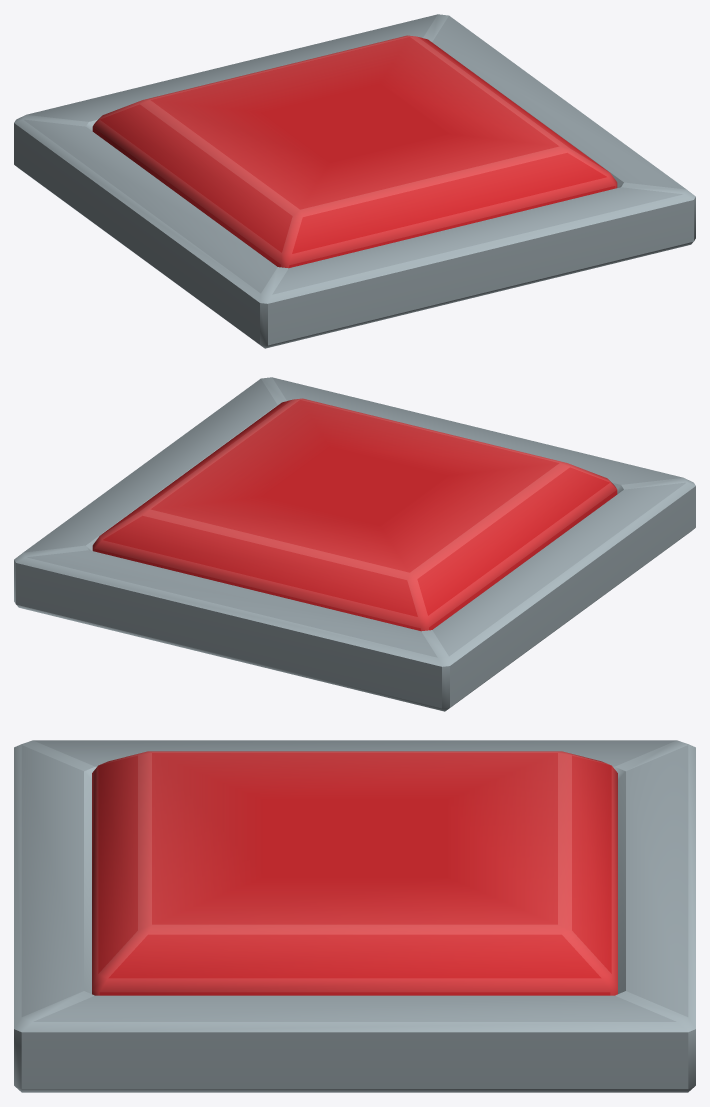
The model's file is button_base_red.glb.
The picture shows the model from 3 angles, top to bottom: view 1: azimuth 30°, elevation 25°; view 2: azimuth 150°, elevation 25°; view 3: azimuth 270°, elevation 25°; orthographic projection. The views are drawn at different scales.
Visible parts, largest first — view 1: button_red, button_base_red; view 2: button_red, button_base_red; view 3: button_red, button_base_red.
Part boxes in pixels (x1,y1,x2,y2): button_red: [92, 35, 617, 268]; button_base_red: [14, 14, 695, 348]; button_red: [92, 398, 617, 631]; button_base_red: [14, 377, 695, 711]; button_red: [92, 751, 617, 995]; button_base_red: [14, 740, 695, 1092].
Bounding box in the file's own units: 1.75 × 0.32 × 1.75.
Materials: 1 (1 with a texture image).
